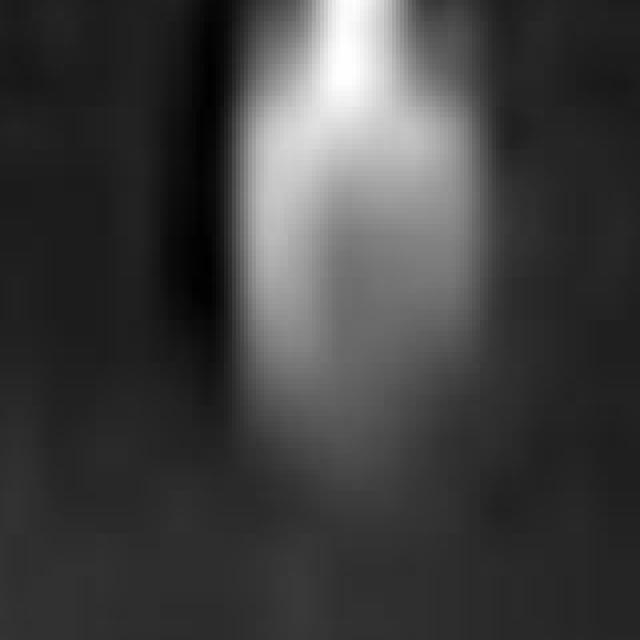person: (193, 1, 505, 492)
